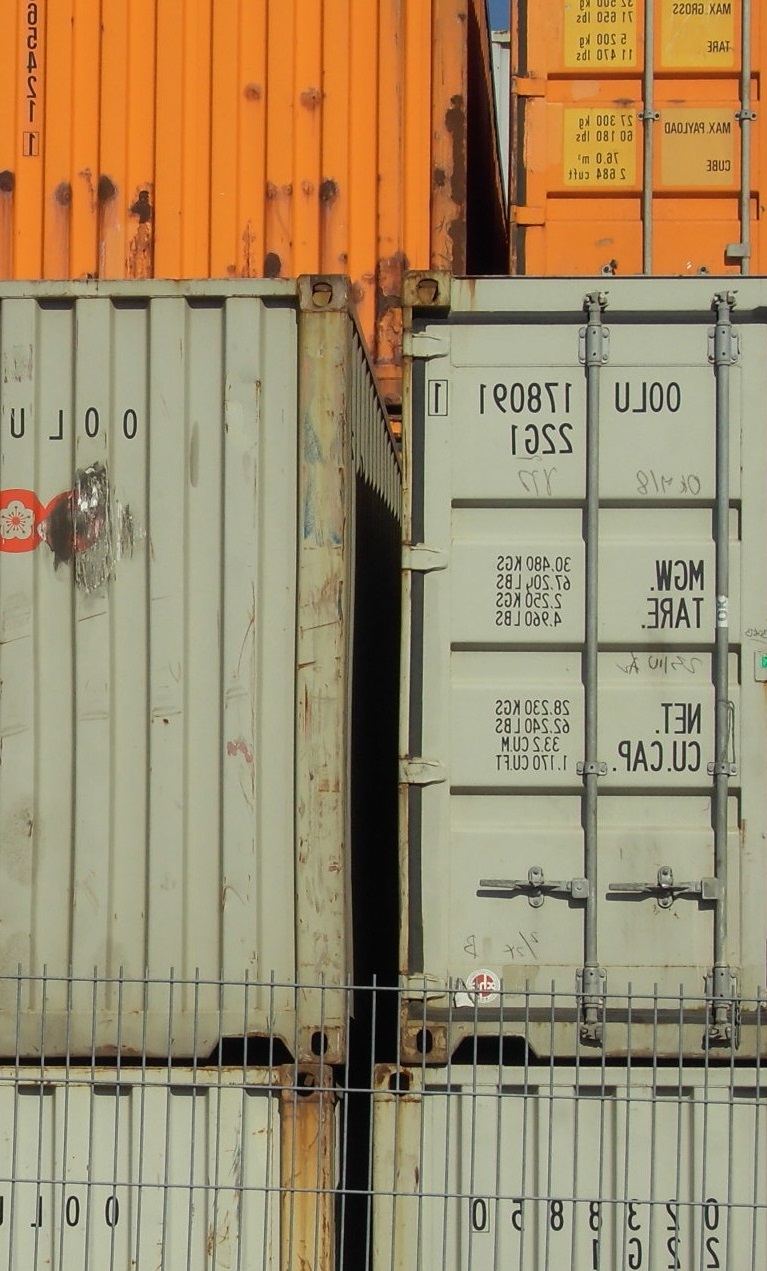container_door: (396, 270, 767, 1064), (509, 3, 762, 269)
container_no_door: (4, 278, 350, 1057), (1, 1, 440, 274)
